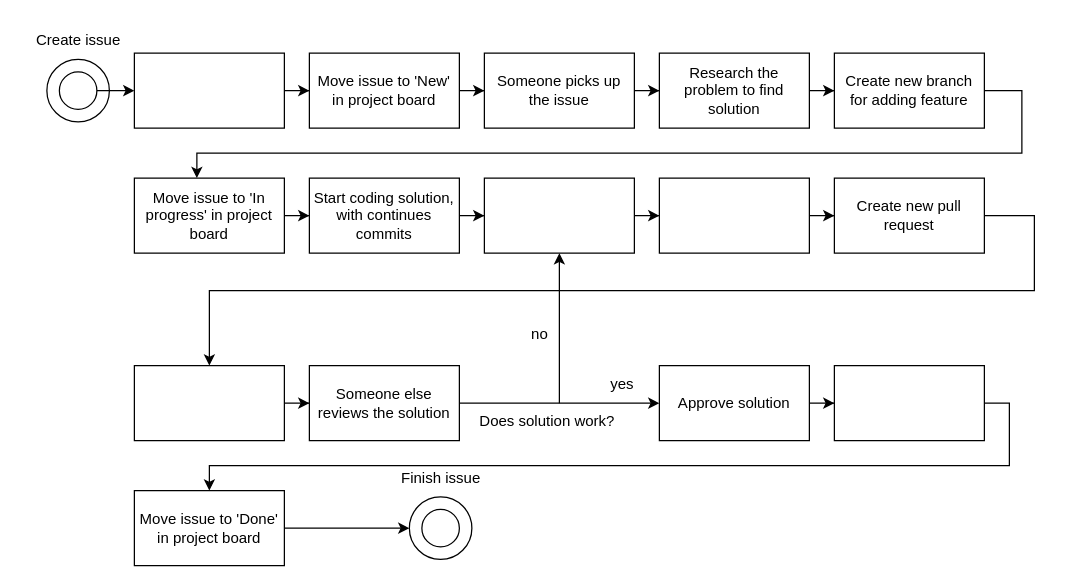
Some shapes in this 1066 by 588 pixel diagram are drawn without their labels. The box of each missing label's shape, as (x1, y1, x2, y2) in pixels:
Merge branch into main: (833, 364, 984, 441)
Move issue to 'In review' on project board: (133, 364, 284, 441)
Resolve issue: (483, 177, 634, 253)
Test that the solution works localy: (658, 177, 809, 253)
Write user story and acceptance criteria: (133, 52, 284, 128)
